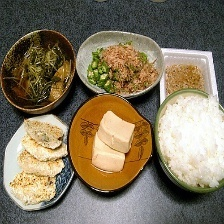rice: (154, 90, 224, 192)
